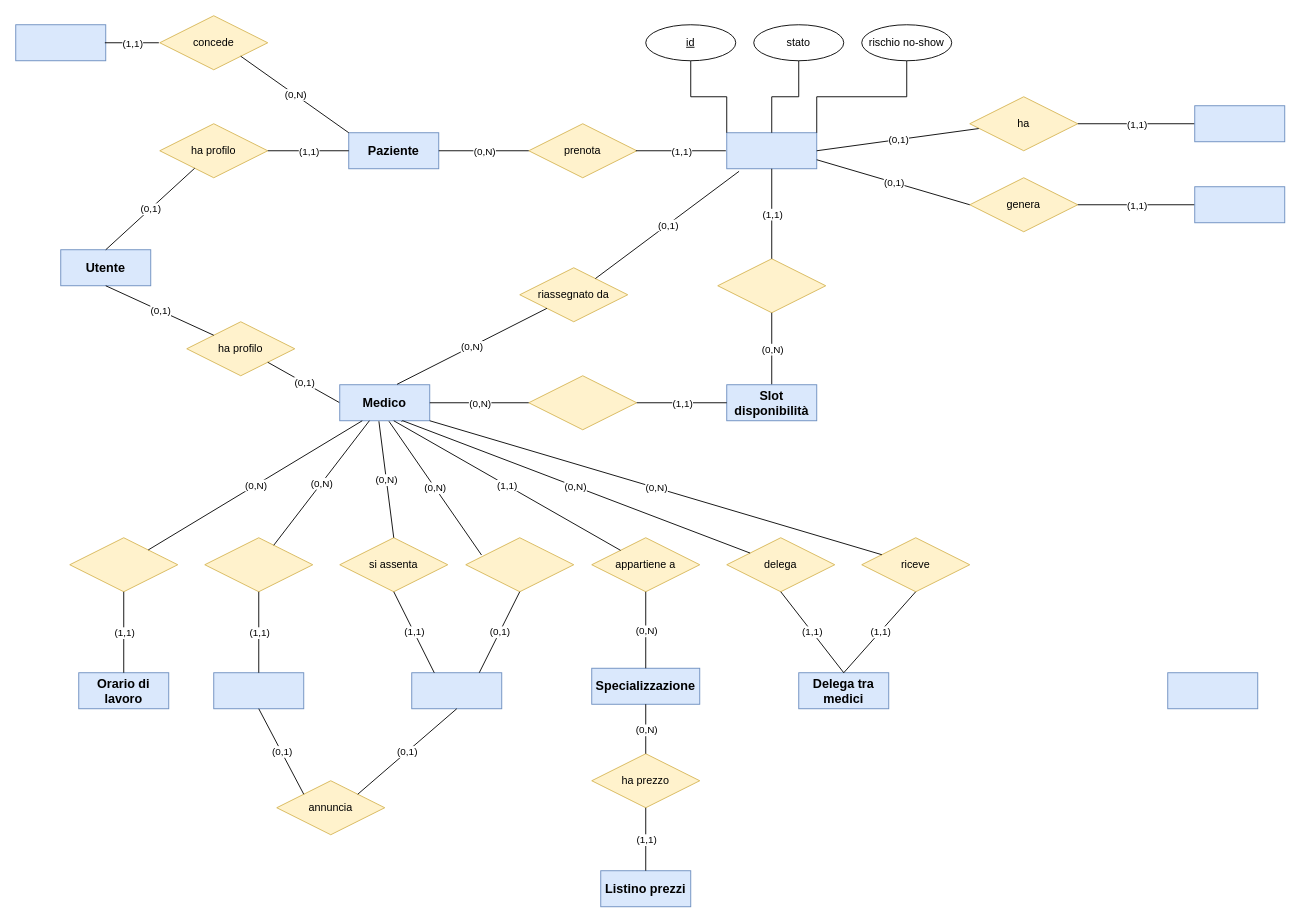
Some shapes in this 1301 by 923 pixel diagram are drawn without their labels. Each missing label, with the box of its shape:
Appuntamento: (726, 132, 817, 169)
apre: (528, 375, 637, 430)
Assenza: (411, 672, 502, 709)
Avviso: (213, 672, 304, 709)
Delega referto: (15, 24, 106, 61)
osserva: (69, 537, 178, 592)
pubblica: (204, 537, 313, 592)
Referto: (1194, 105, 1285, 142)
Registro audit: (1167, 672, 1258, 709)
riguarda: (717, 258, 826, 313)
sostituisce: (465, 537, 574, 592)
Voce di fattura: (1194, 186, 1285, 223)
